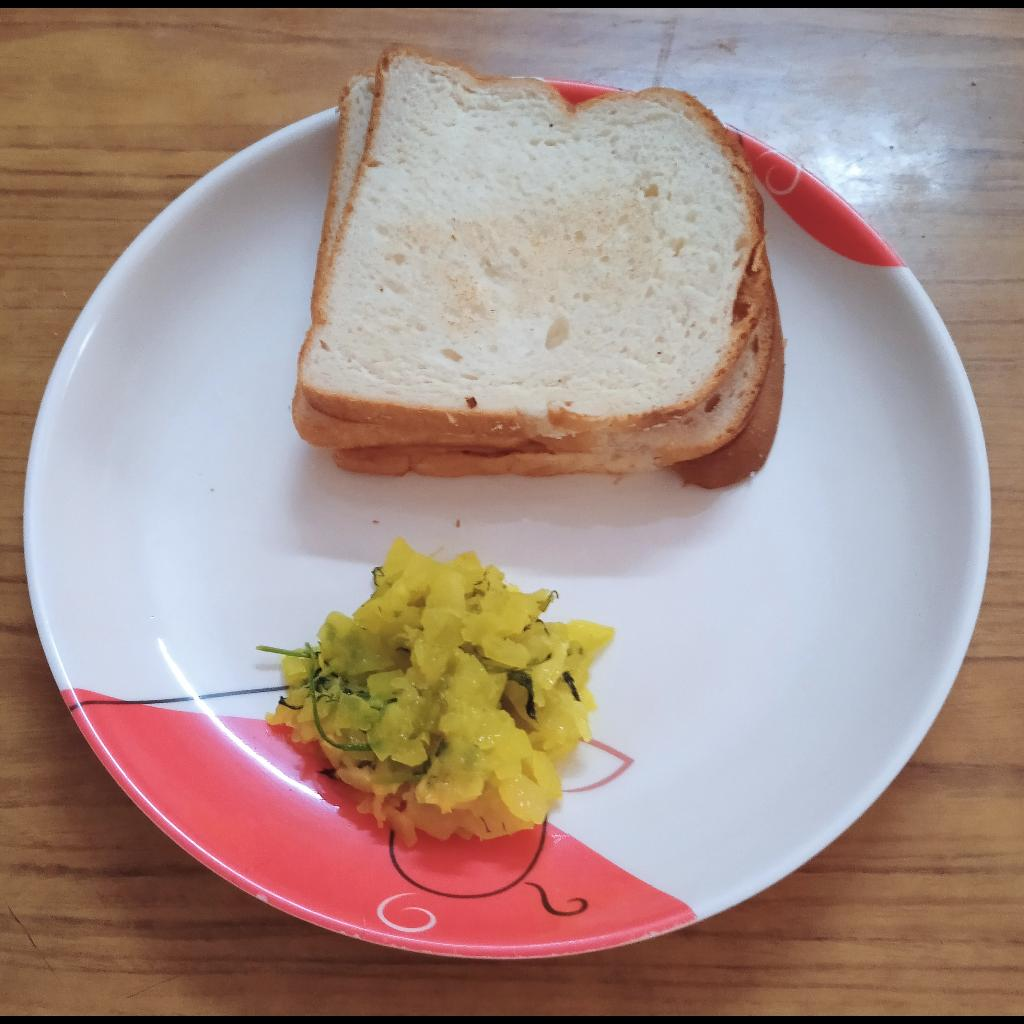bread: (291, 43, 787, 492)
cabbage: (268, 537, 619, 866)
